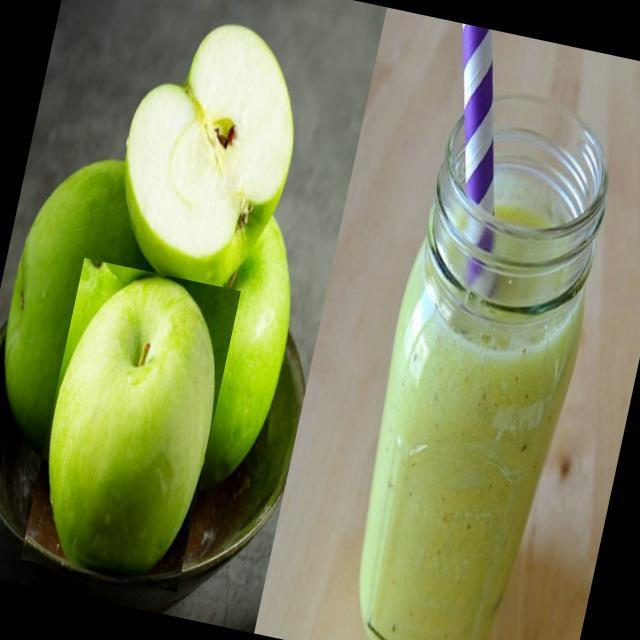Green Apple: (5, 160, 293, 488)
Red Apple: (47, 276, 217, 576), (124, 23, 295, 287), (3, 159, 152, 457)
